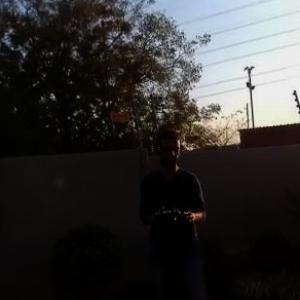follow: (134, 121, 216, 299)
